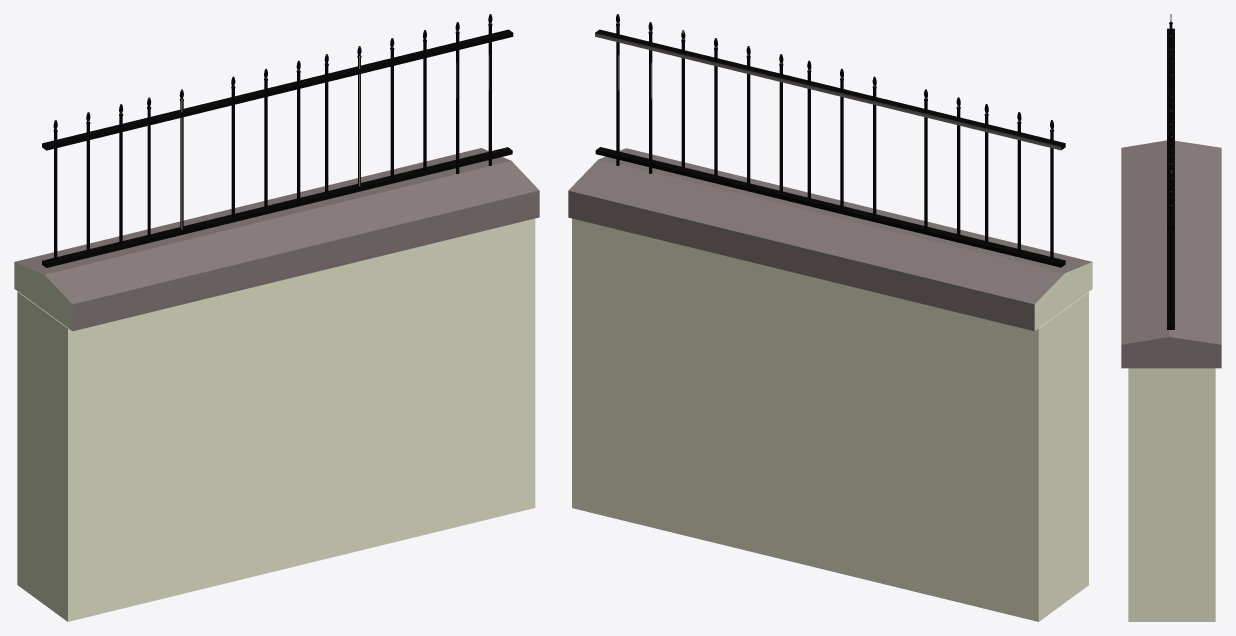
The model's file is Low_Wall.fbx.
3 renders of one model, left to right at view 1: azimuth 30°, elevation 25°; view 2: azimuth 150°, elevation 25°; view 3: azimuth 270°, elevation 25°, orthographic. The views are drawn at different scales.
Visible parts, largest first — view 1: Low_Wall; view 2: Low_Wall; view 3: Low_Wall.
Boxes of the visible parts, x1,y1,x2,y2 form: Low_Wall: [14, 14, 539, 621]; Low_Wall: [568, 14, 1092, 621]; Low_Wall: [1121, 14, 1221, 621].
Size of the model in its own units: 150 by 147 by 32.32.
